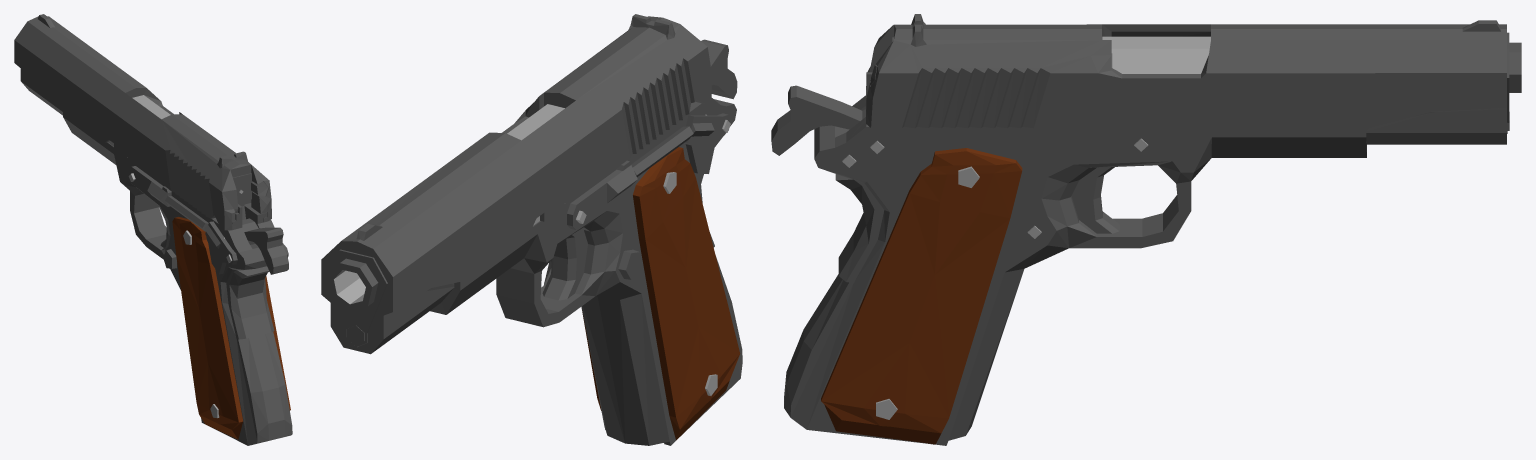
3 renders of one model, left to right at view 1: azimuth 30°, elevation 25°; view 2: azimuth 150°, elevation 25°; view 3: azimuth 270°, elevation 25°, orthographic. The views are drawn at different scales.
Parts seen in each view (by area): view 1: frame, slide, hammer, safety, slide_lock, barrel; view 2: slide, frame, barrel, trigger, slide_lock, safety, hammer, mag_eject; view 3: frame, slide, barrel, hammer, trigger.
Part boxes in pixels (left/top/right/bottom): frame: left=63, top=112, right=292, bottom=445; slide: left=14, top=14, right=271, bottom=230; hammer: left=242, top=218, right=288, bottom=274; safety: left=204, top=221, right=237, bottom=274; slide_lock: left=129, top=166, right=171, bottom=206; barrel: left=132, top=95, right=170, bottom=119; slide: left=321, top=14, right=711, bottom=354; frame: left=430, top=98, right=742, bottom=445; barrel: left=327, top=104, right=564, bottom=310; trigger: left=542, top=228, right=587, bottom=300; slide_lock: left=567, top=160, right=637, bottom=230; safety: left=684, top=113, right=730, bottom=173; hammer: left=701, top=39, right=737, bottom=99; mag_eject: left=618, top=249, right=639, bottom=279; frame: left=784, top=72, right=1366, bottom=445; slide: left=865, top=14, right=1509, bottom=144; barrel: left=1102, top=36, right=1521, bottom=92; hammer: left=771, top=85, right=865, bottom=155; trigger: left=1071, top=167, right=1119, bottom=233.
Bounding box in the file's own units: 3.19 × 13.51 × 22.53.
